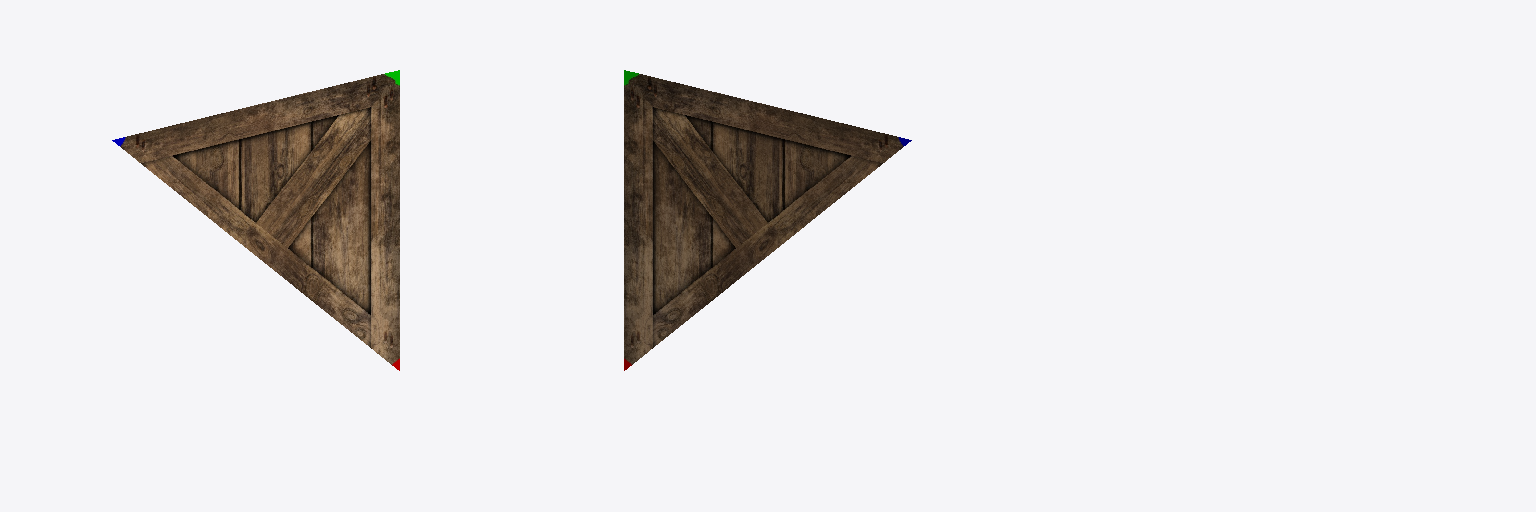
3 views of the same model, side by side, from view 1: azimuth 30°, elevation 25°; view 2: azimuth 150°, elevation 25°; view 3: azimuth 270°, elevation 25° (orthographic).
Visible parts, largest first — view 1: simpleBox; view 2: simpleBox; view 3: none.
Part boxes in pixels (left/top/right/bottom): simpleBox: left=112, top=70, right=399, bottom=370; simpleBox: left=624, top=70, right=911, bottom=370.
Size of the model in its own units: 2 by 2 by 0.
Materials: 1 (1 with a texture image).